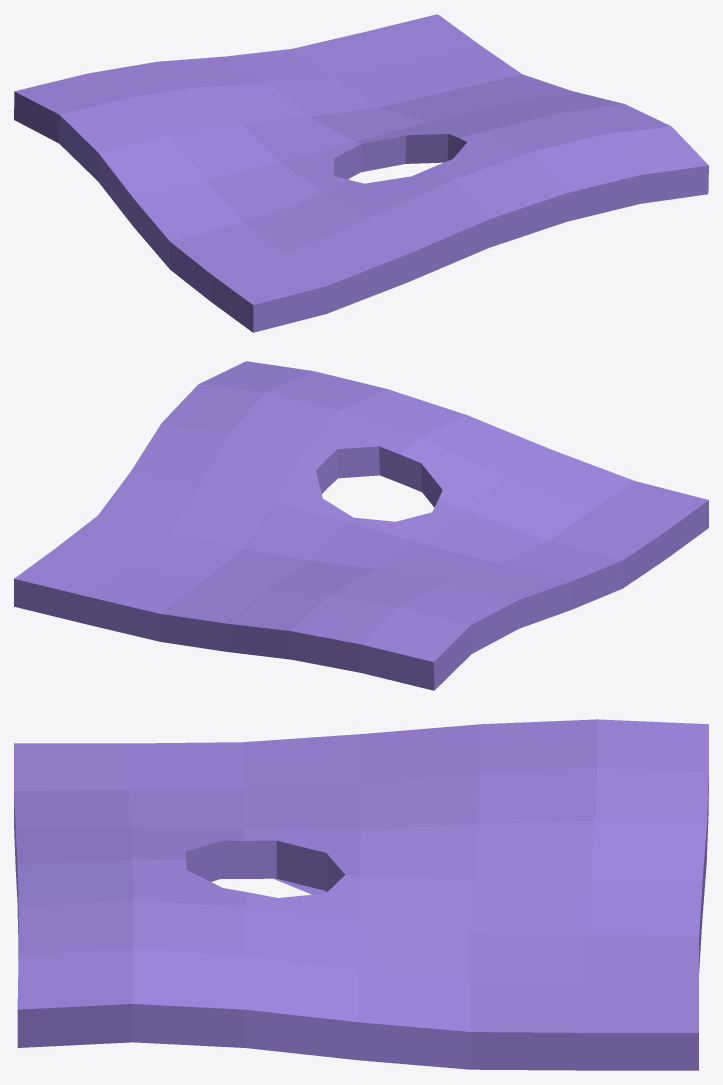
The model's file is basura2.fbx.
3 views of the same model, one above another, from view 1: azimuth 30°, elevation 25°; view 2: azimuth 150°, elevation 25°; view 3: azimuth 270°, elevation 25° (orthographic). The views are drawn at different scales.
Parts seen in each view (by area): view 1: Cube.001; view 2: Cube.001; view 3: Cube.001.
Boxes of the visible parts, <box> form: Cube.001: <box>14,14,708,332</box>; Cube.001: <box>14,361,708,690</box>; Cube.001: <box>14,719,708,1070</box>.
Size of the model in its own units: 643 by 93.09 by 617.
